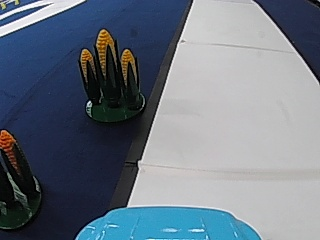corn: (75, 25, 150, 122), (1, 126, 43, 229)
